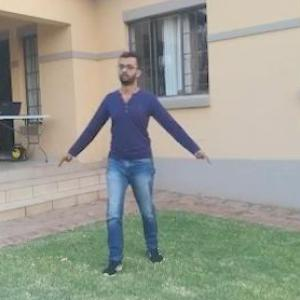land: (68, 58, 205, 259)
